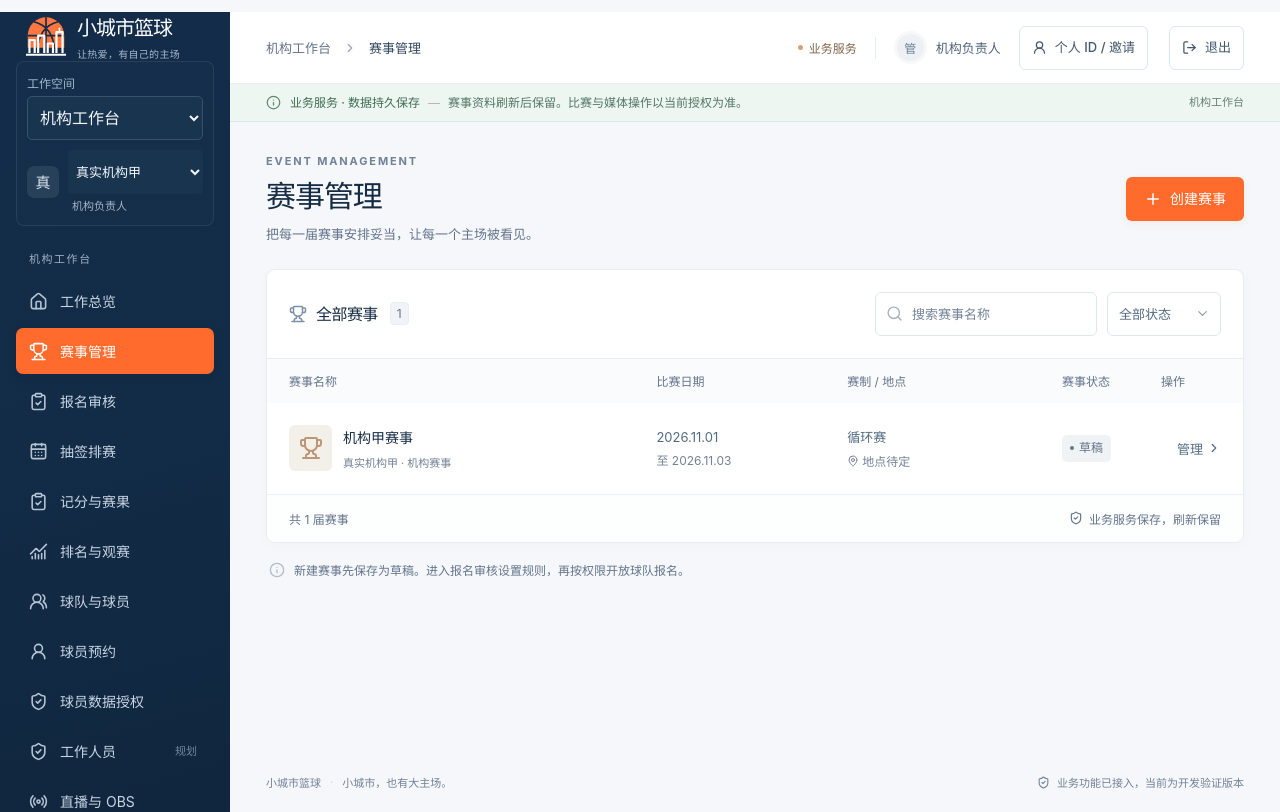
Test: 领队个人账号与绑定邀请 › 机构成员可切到独立球队上下文，旧机构赛事不留在领队页面
Expected: the link "机构甲赛事" is shown, [343,429,413,446]
Select "我的球队" in the dropdown labelled "工作空间" at (115, 118), box [27,96,203,140]
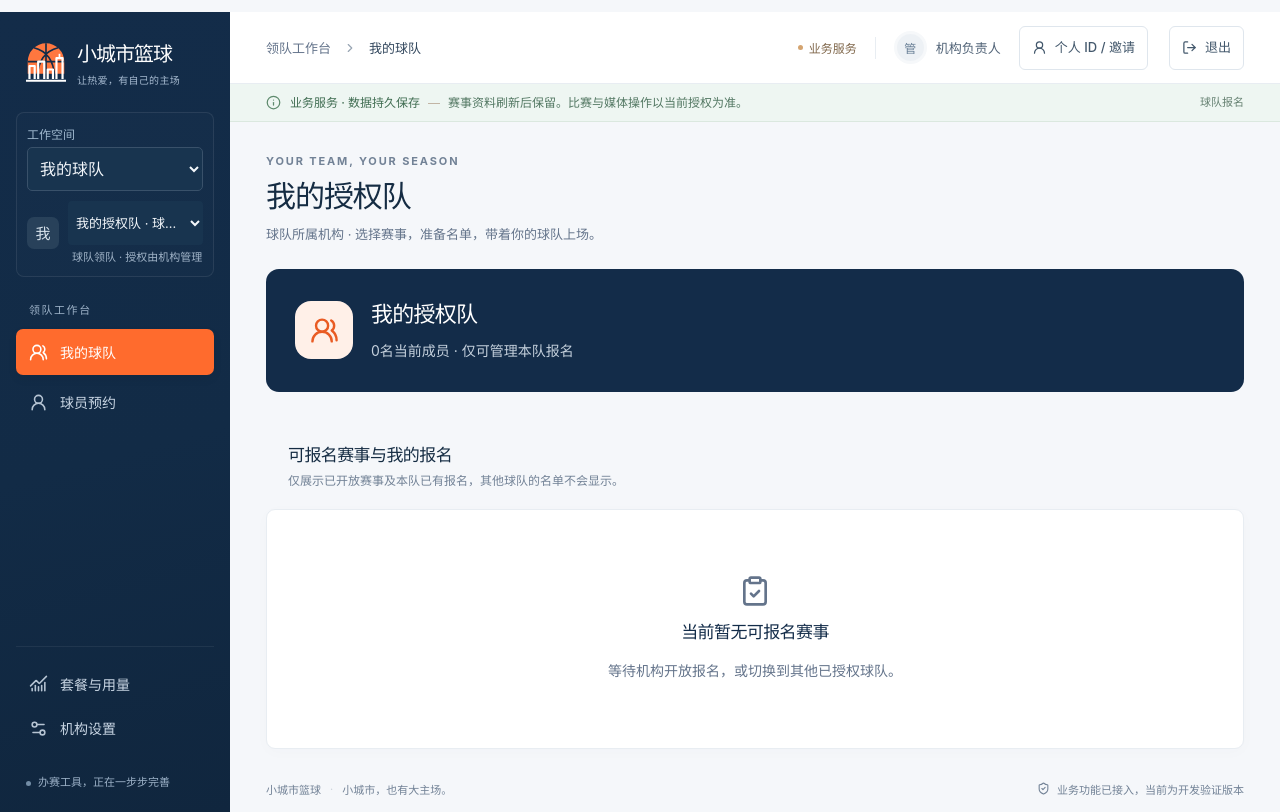
Now the heading "当前暂无可报名赛事" is shown, box [681,620,829,646]
Now the dropdown named "切换球队" shows "我的授权队 · 球队所属机构", box [68,201,203,245]
Now the link "机构甲赛事" is gone
